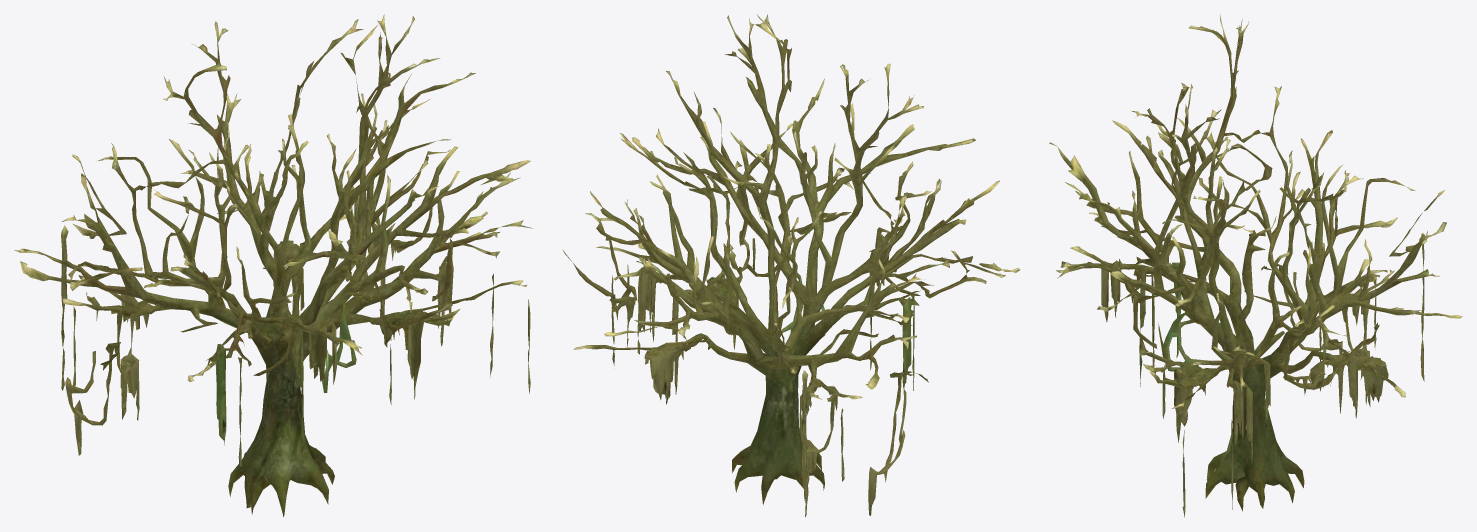
File: deadtree.glb
3 views of the same model, side by side, from view 1: azimuth 30°, elevation 25°; view 2: azimuth 150°, elevation 25°; view 3: azimuth 270°, elevation 25° (orthographic). The views are drawn at different scales.
Parts seen in each view (by area): view 1: Mesh_0; view 2: Mesh_0; view 3: Mesh_0.
Part boxes in pixels (x1=…): Mesh_0: x1=14, y1=14, x2=531, y2=516; Mesh_0: x1=562, y1=14, x2=1020, y2=517; Mesh_0: x1=1049, y1=14, x2=1462, y2=517.
Size of the model in its own units: 1.58 by 1.63 by 1.37.
1 material, 1 textured.
